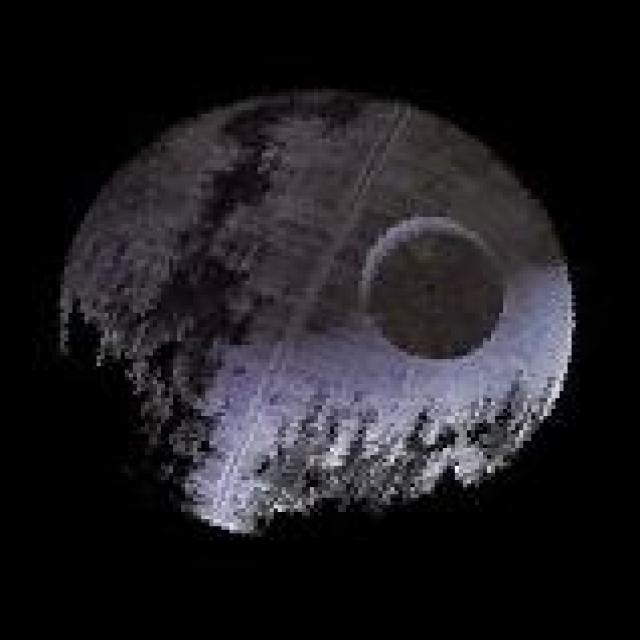Death Star: (48, 82, 584, 540)
